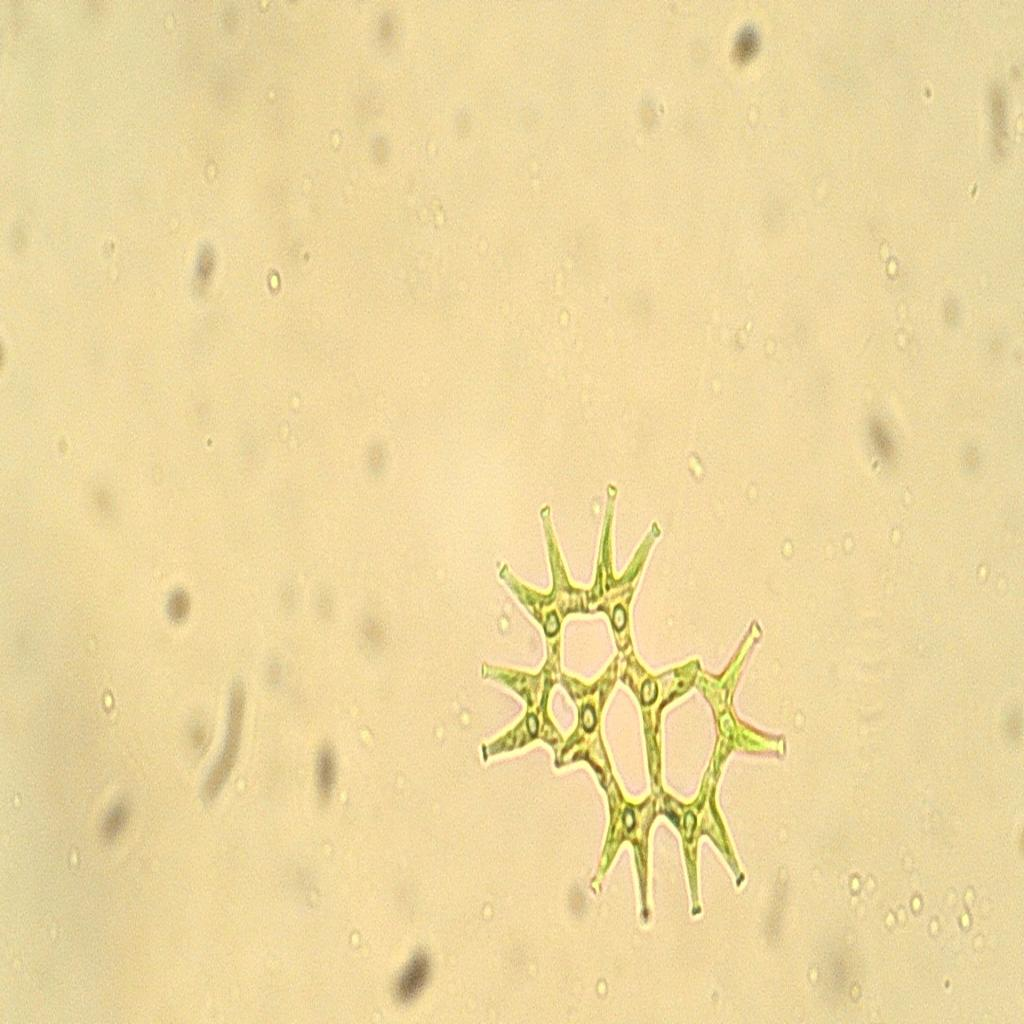Pediastrum_CFI: (470, 472, 794, 939)
